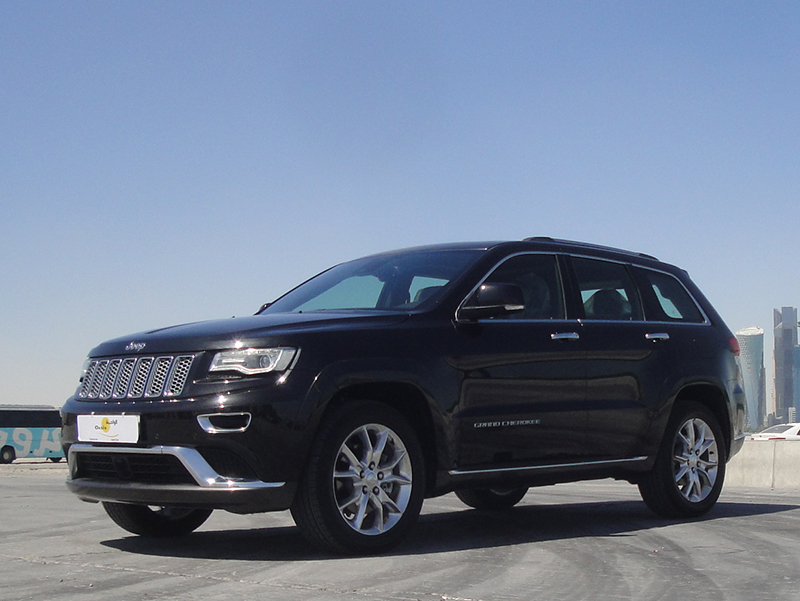other: (51, 230, 738, 549)
